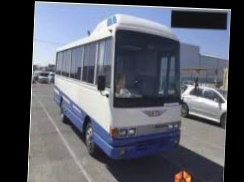bus: (49, 8, 187, 167)
